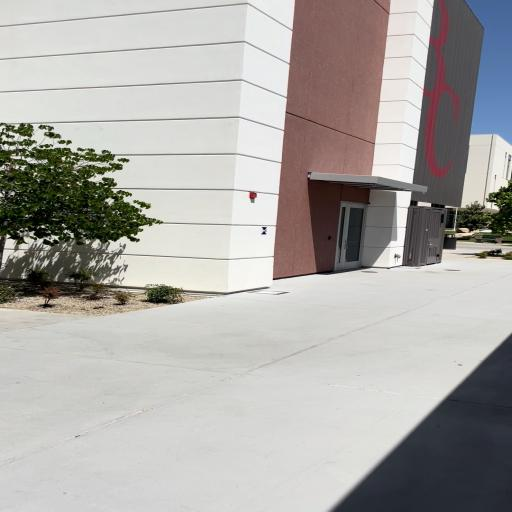target6: (261, 226, 268, 234)
